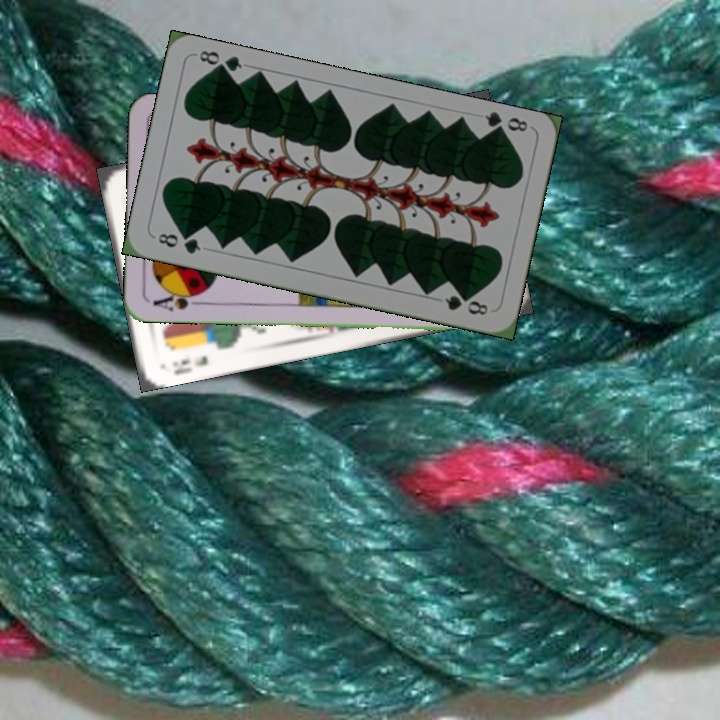EK: (168, 351, 211, 377)
G8: (480, 108, 530, 140), (153, 229, 204, 257)
SA: (149, 287, 207, 314)
